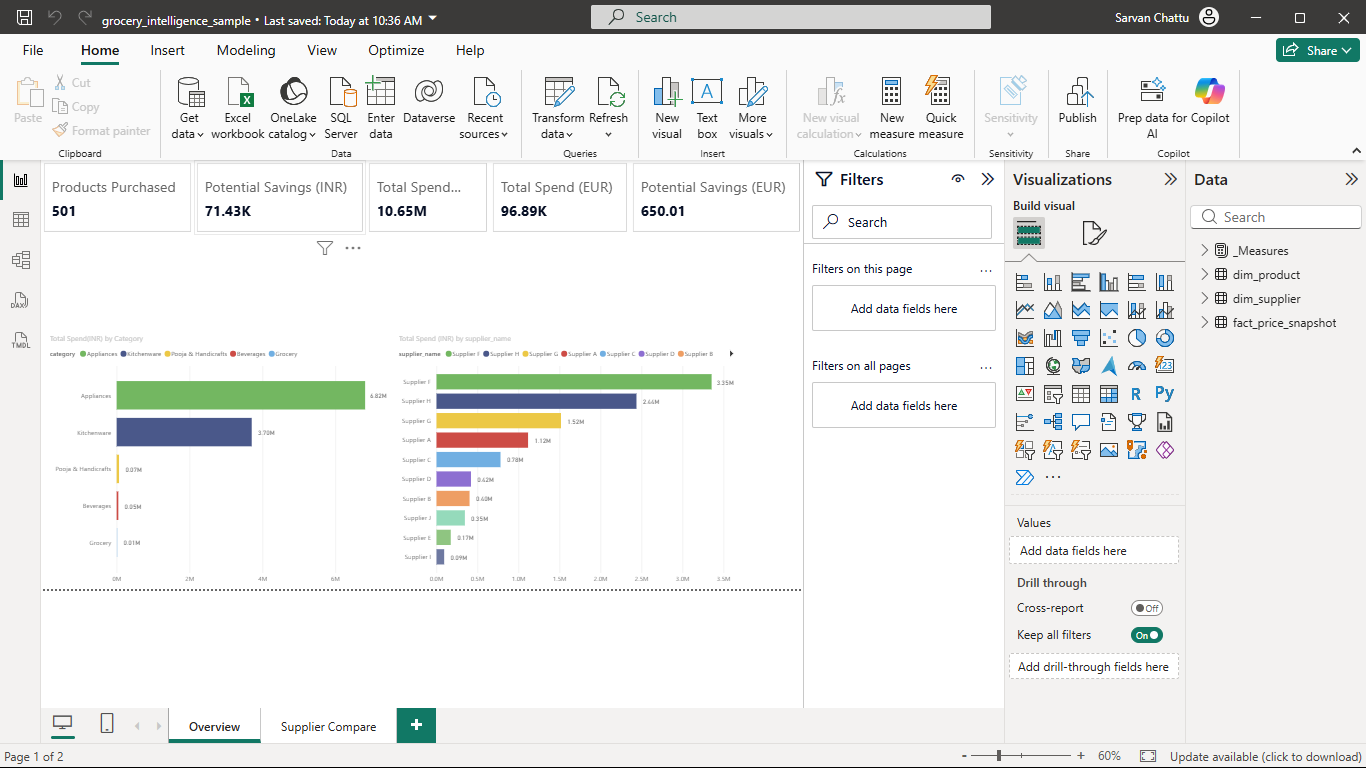

This screenshot's page, from the dashboard's own definition file:
{"tool":"powerbi","page":{"name":"Overview","canvas":[1280,720],"ordinal":0},"visuals":[{"type":"cardVisual","fields":{"Data":["_Measures.Potential Savings (INR)"]},"box":[257,0,288.9,126],"z":0},{"type":"cardVisual","fields":{"Data":["_Measures.Total Spend (EUR)"]},"box":[754.2,0,235.2,126],"z":1000},{"type":"cardVisual","fields":{"Data":["_Measures.Potential Savings (EUR)"]},"box":[989.4,0,290.6,126],"z":2000},{"type":"cardVisual","fields":{"Data":["_Measures.Total Spend (INR)"]},"box":[545.9,0,208.3,126],"z":3000},{"type":"barChart","title":"Total Spend(INR) by Category","fields":{"Category":["dim_product.category"],"Y":["_Measures.Total Spend (INR)"],"Series":["dim_product.category"]},"box":[10.1,290.6,586.2,430],"z":4000},{"type":"barChart","title":"Total Spend (INR) by supplier_name","fields":{"Category":["dim_supplier.supplier_name"],"Y":["_Measures.Total Spend (INR)"],"Series":["dim_supplier.supplier_name"]},"box":[596.3,290.6,582.9,430],"z":5000},{"type":"cardVisual","fields":{"Data":["_Measures.Products Purchased"]},"box":[0,0,257,126],"z":6000}]}

Visuals, with their boxes on the page's 1280x720 design canvas (x1, y1, x2, y2). These are canvas units, not pixel positions in the 1366x768 screenshot, which may show the page scaled, cropped or inside an application window:
cardVisual - _Measures.Potential Savings (INR): 257:0:546:126
cardVisual - _Measures.Total Spend (EUR): 754:0:989:126
cardVisual - _Measures.Potential Savings (EUR): 989:0:1280:126
cardVisual - _Measures.Total Spend (INR): 546:0:754:126
"Total Spend(INR) by Category" barChart: 10:291:596:721
"Total Spend (INR) by supplier_name" barChart: 596:291:1179:721
cardVisual - _Measures.Products Purchased: 0:0:257:126
